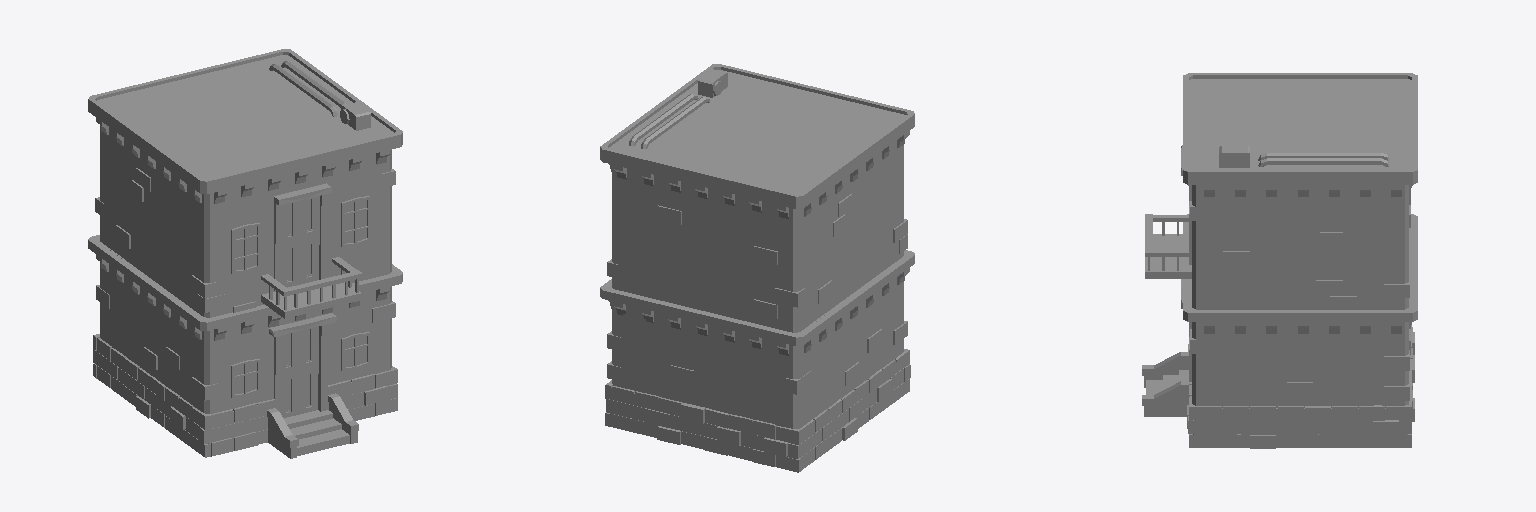
Rendered from 2Story_Balcony.obj.
3 views of the same model, side by side, from view 1: azimuth 30°, elevation 25°; view 2: azimuth 150°, elevation 25°; view 3: azimuth 270°, elevation 25° (orthographic).
Parts seen in each view (by area): view 1: 2Story_Balcony_Cube.003; view 2: 2Story_Balcony_Cube.003; view 3: 2Story_Balcony_Cube.003.
Boxes of the visible parts, x1=… form: 2Story_Balcony_Cube.003: x1=88, y1=49, x2=402, y2=458; 2Story_Balcony_Cube.003: x1=600, y1=64, x2=914, y2=472; 2Story_Balcony_Cube.003: x1=1142, y1=73, x2=1417, y2=448.
Bounding box in the file's own units: 2.16 × 2.94 × 2.53.